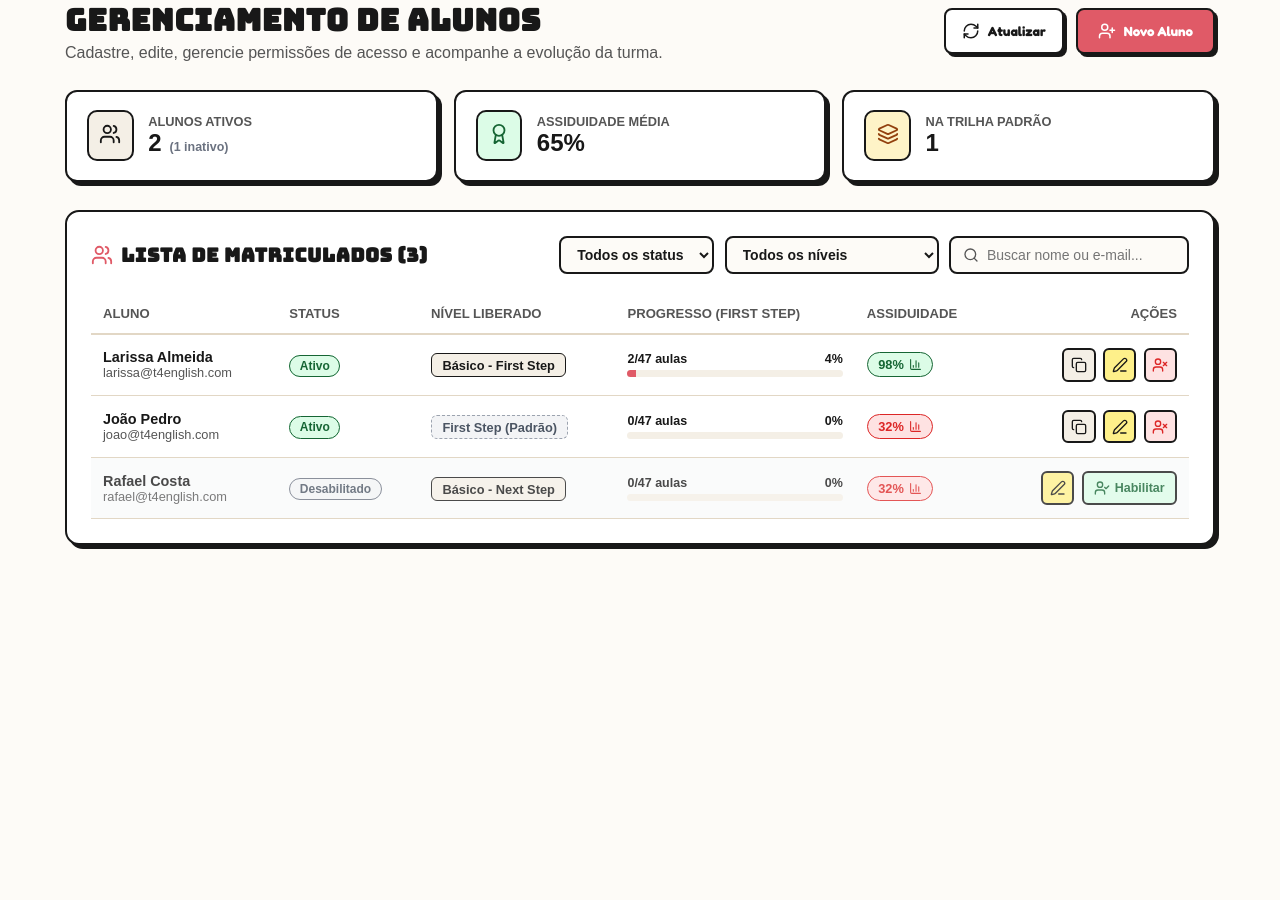
Scenario: Página StudentManagement (Gestão Completa e Assiduidade Automática) › STATUS (Soft Delete): deve confirmar e desabilitar aluno ativo mantendo histórico, e permitir reativar depois
The image size is (1280, 900).
Expected: the text "Larissa Almeida" is shown, [103,349,213,365]
What coordinates should you click on to do the following:
click the button titled "Desabilitar Acesso do Aluno" in the row of "Larissa Almeida"
I would click on:
 (1160, 365)
Its box is [1144,348,1177,382].
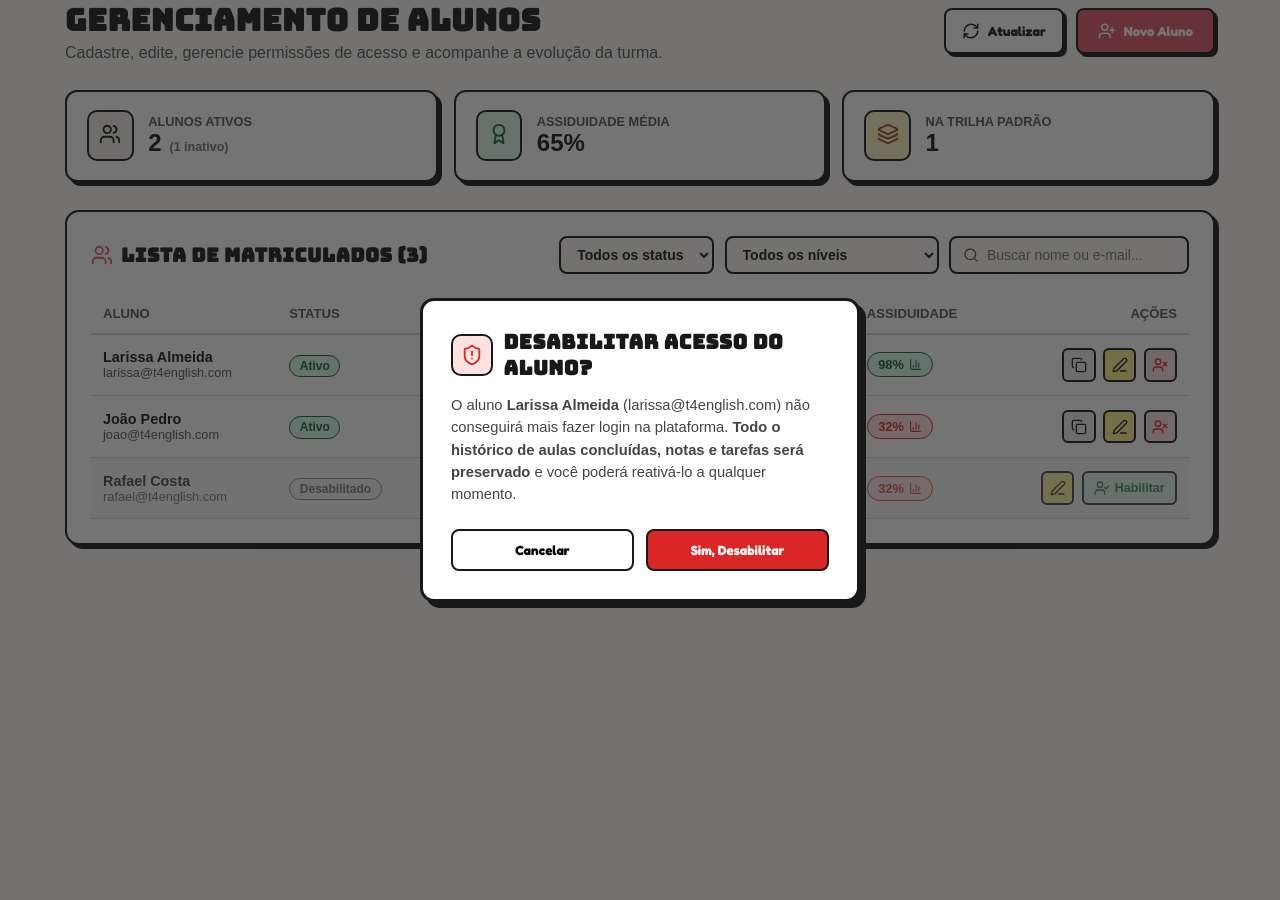
What coordinates should you click on to do the following:
click the button "Sim, Desabilitar"
I would click on:
 (738, 550)
Its box is [646,529,829,571].
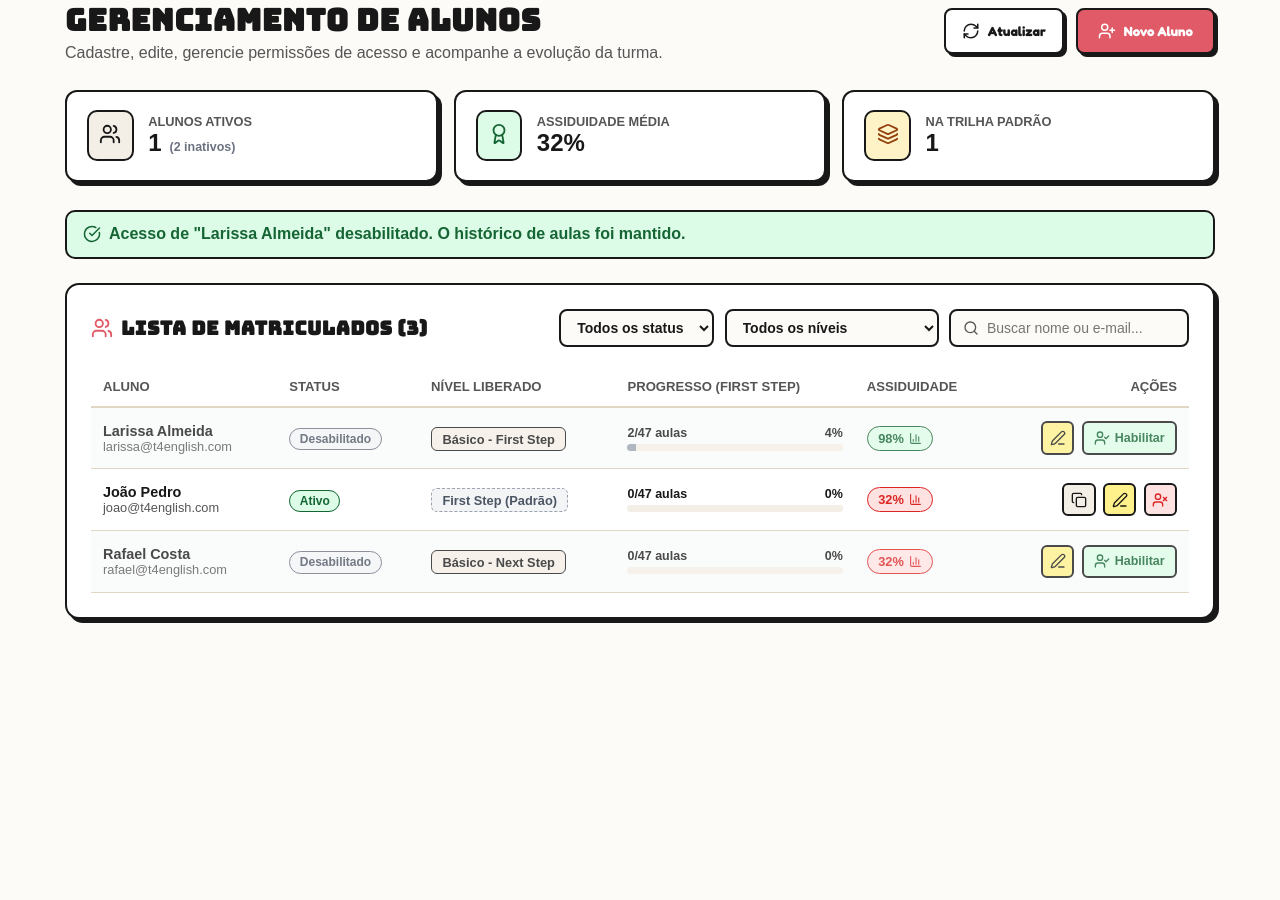
Result: the text "Acesso de \"Larissa Almeida\" desabilitado. O histórico de aulas foi mantido." is shown at [65,210,1215,259]
What coordinates should you click on to do the following:
click the button titled "Reativar Acesso do Aluno" in the row of "larissa@t4english.com"
I would click on:
 (1129, 438)
Its box is [1082,421,1177,455].
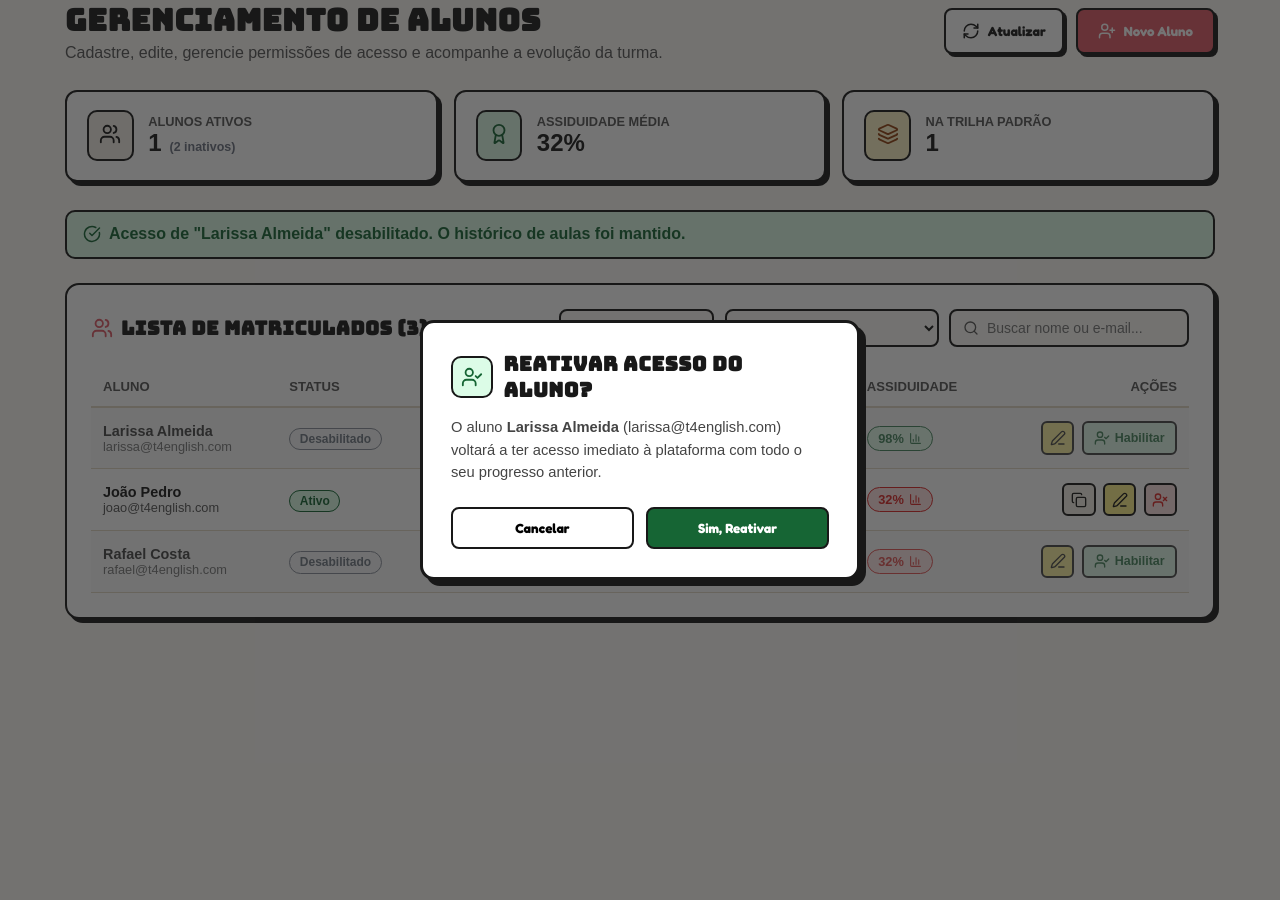
What coordinates should you click on to do the following:
click the button "Sim, Reativar"
I would click on:
 (738, 528)
Its box is [646,507,829,549].
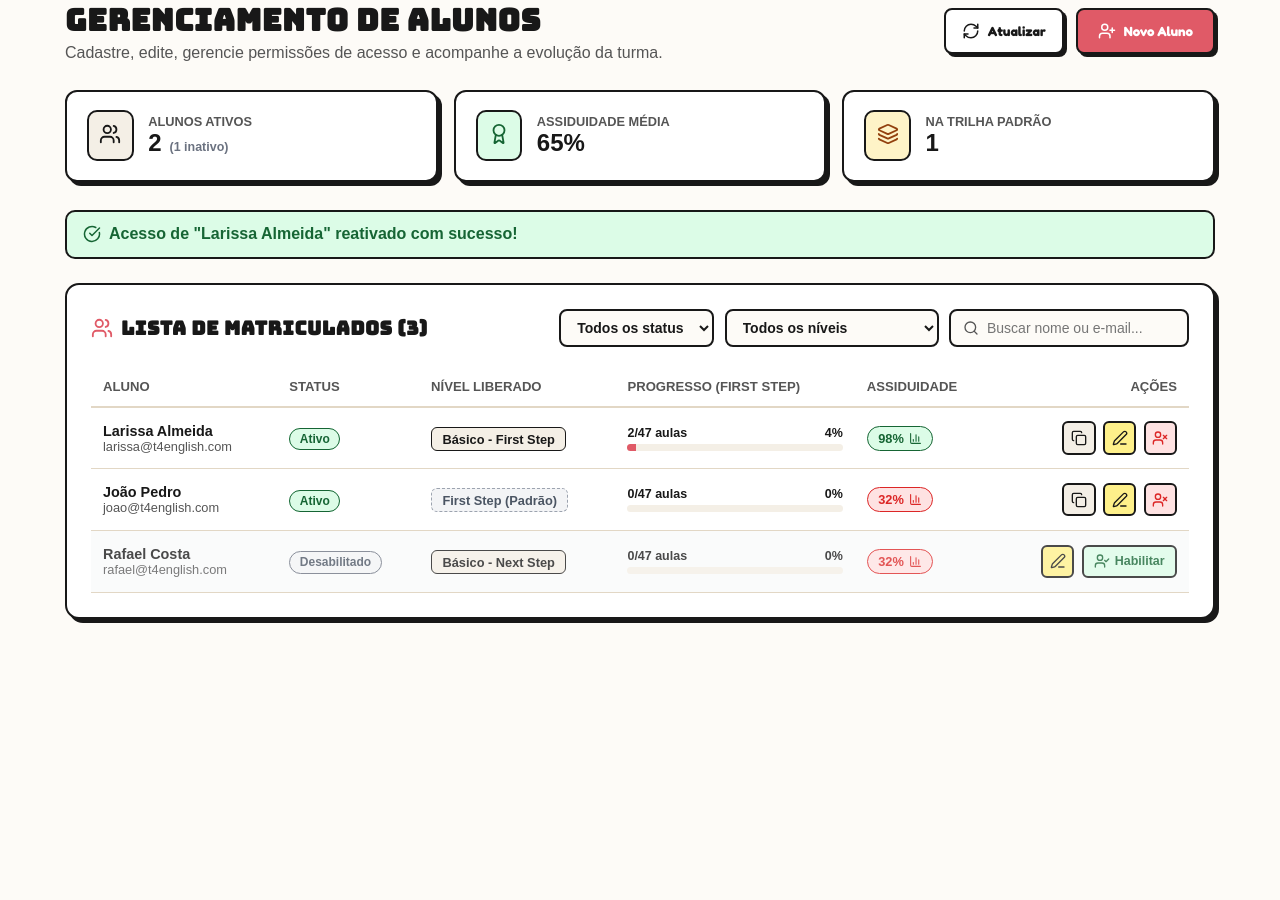
Result: the text "Acesso de \"Larissa Almeida\" reativado com sucesso!" is shown at [65,210,1215,259]
